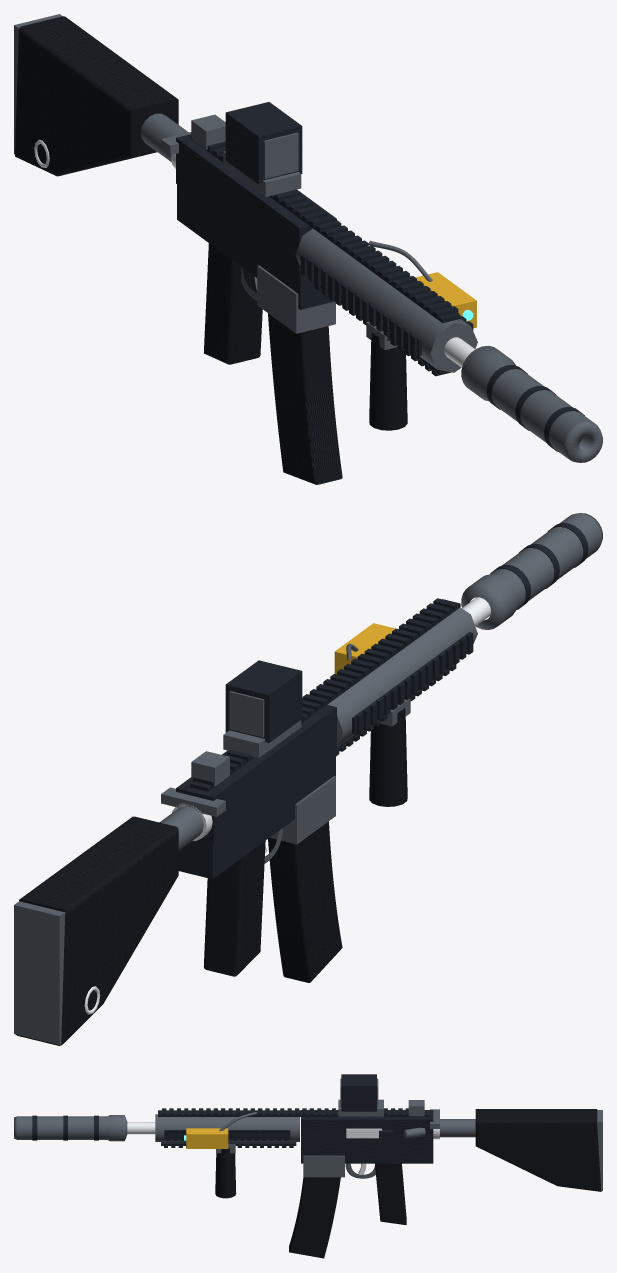
Rendered from m4a1_tactical.glb.
3 renders of one model, top to bottom at view 1: azimuth 30°, elevation 25°; view 2: azimuth 150°, elevation 25°; view 3: azimuth 270°, elevation 25°, orthographic. The views are drawn at different scales.
Visible parts, largest first — view 1: M4A1_Body_polymer, M4A1_Body_metalPrimary, M4A1_Body_metalDark, M4A1_Mag_polymer, M4A1_Body_accent, M4A1_Body_metalChrome; view 2: M4A1_Body_polymer, M4A1_Body_metalPrimary, M4A1_Body_metalDark, M4A1_Mag_polymer, M4A1_Body_accent, M4A1_Body_metalChrome, M4A1_Bolt_metalDark; view 3: M4A1_Body_polymer, M4A1_Body_metalPrimary, M4A1_Body_metalDark, M4A1_Mag_polymer, M4A1_Body_accent, M4A1_Body_metalChrome, M4A1_Bolt_metalChrome.
Boxes of the visible parts, left/top/right/bottom form: M4A1_Body_polymer: left=15, top=16, right=407, bottom=430; M4A1_Body_metalPrimary: left=176, top=102, right=584, bottom=451; M4A1_Body_metalDark: left=14, top=14, right=602, bottom=462; M4A1_Mag_polymer: left=268, top=313, right=342, bottom=484; M4A1_Body_accent: left=415, top=272, right=476, bottom=328; M4A1_Body_metalChrome: left=34, top=139, right=475, bottom=367; M4A1_Body_polymer: left=16, top=708, right=407, bottom=1045; M4A1_Body_metalPrimary: left=176, top=522, right=588, bottom=879; M4A1_Body_metalDark: left=14, top=513, right=602, bottom=1044; M4A1_Mag_polymer: left=268, top=821, right=342, bottom=982; M4A1_Body_accent: left=334, top=623, right=395, bottom=674; M4A1_Body_metalChrome: left=84, top=597, right=490, bottom=1014; M4A1_Bolt_metalDark: left=161, top=787, right=225, bottom=816; M4A1_Body_polymer: left=215, top=1109, right=601, bottom=1224; M4A1_Body_metalPrimary: left=32, top=1074, right=433, bottom=1163; M4A1_Body_metalDark: left=14, top=1078, right=602, bottom=1190; M4A1_Mag_polymer: left=289, top=1177, right=340, bottom=1258; M4A1_Body_accent: left=186, top=1128, right=228, bottom=1148; M4A1_Body_metalChrome: left=127, top=1122, right=439, bottom=1174; M4A1_Bolt_metalChrome: left=346, top=1128, right=381, bottom=1138.
Bounding box in the file's own units: 0.0814 × 0.3139 × 0.957.
Materials: 8 (2 with a texture image).
